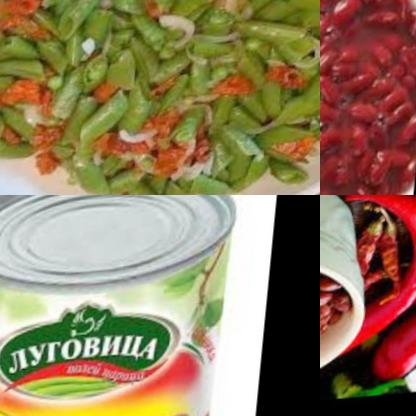fasol: (0, 0, 320, 195), (320, 0, 416, 195), (320, 256, 357, 394)
hot pepper: (346, 195, 416, 353), (373, 273, 416, 388), (376, 218, 414, 314), (371, 195, 416, 236), (357, 224, 383, 284)
